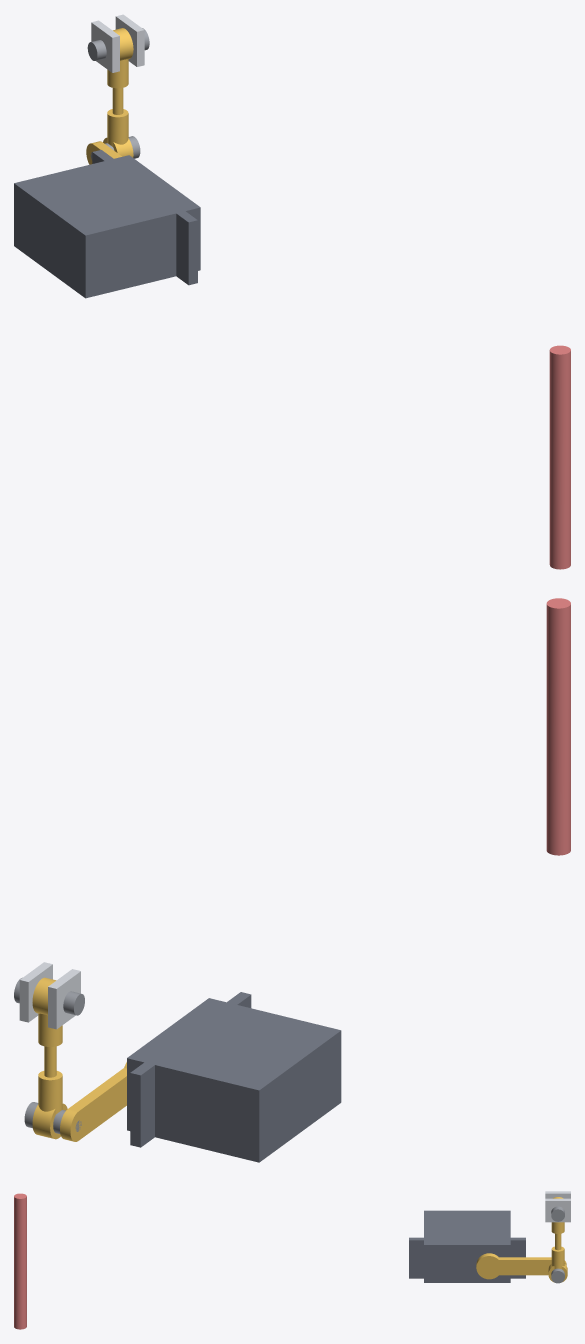
File: linkage.glb
3 views of the same model, one above another, from view 1: azimuth 30°, elevation 25°; view 2: azimuth 150°, elevation 25°; view 3: azimuth 270°, elevation 25° (orthographic). The views are drawn at different scales.
Parts seen in each view (by area): view 1: ball_on_beam; view 2: ball_on_beam; view 3: ball_on_beam.
Boxes of the visible parts, x1,y1,x2,y2 form: ball_on_beam: (14,14,570,569); ball_on_beam: (14,598,570,1162); ball_on_beam: (14,1191,570,1329).
Bounding box in the file's own units: 0.0551 × 0.067 × 0.259.
